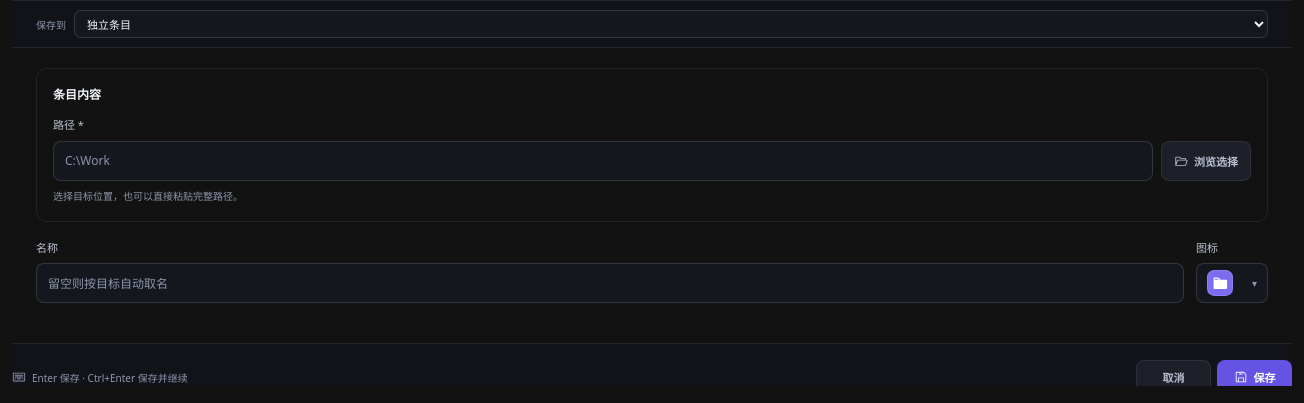
Test: ItemForm path input › turns a file: address into a path when the field is left
This screenshot has width=1304, height=403.
Step 1. Type "file:///C:/Users/me/My%20Files" into the field with test id "item-path-input" → coordinates (603, 160), box [53, 140, 1153, 180]
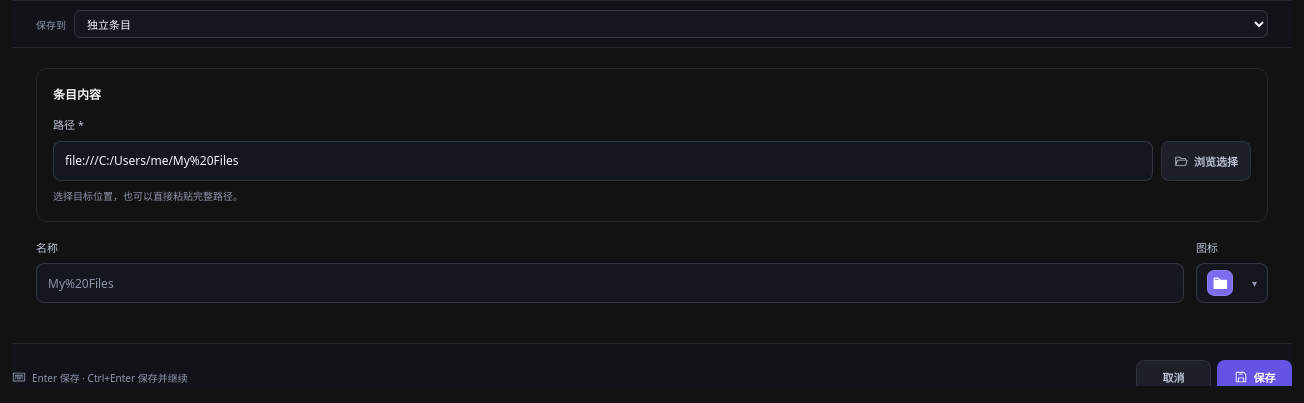
Step 2. Leave the field with test id "item-path-input", box [53, 140, 1153, 180]
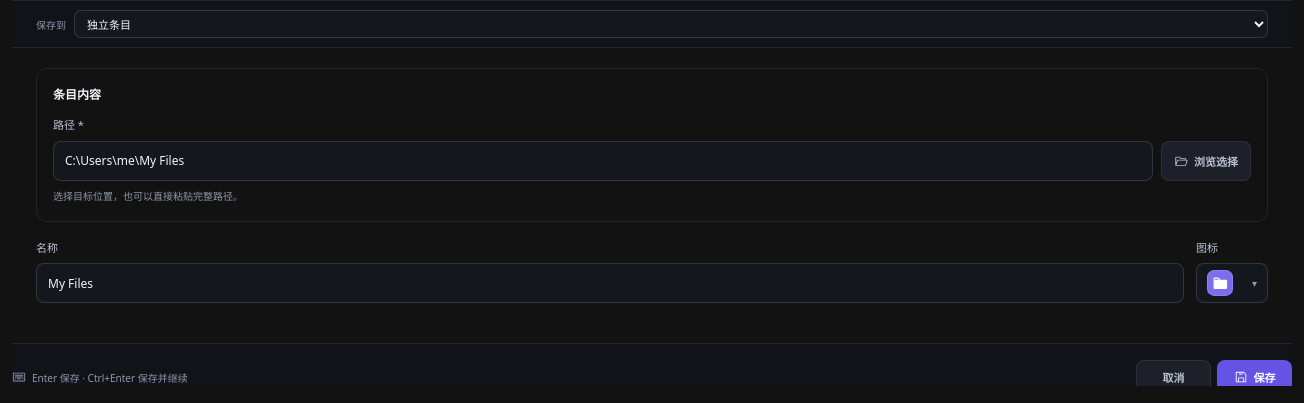
Check: the field with test id "item-path-input" holds "C:\\Users\\me\\My Files", box [53, 140, 1153, 180]
